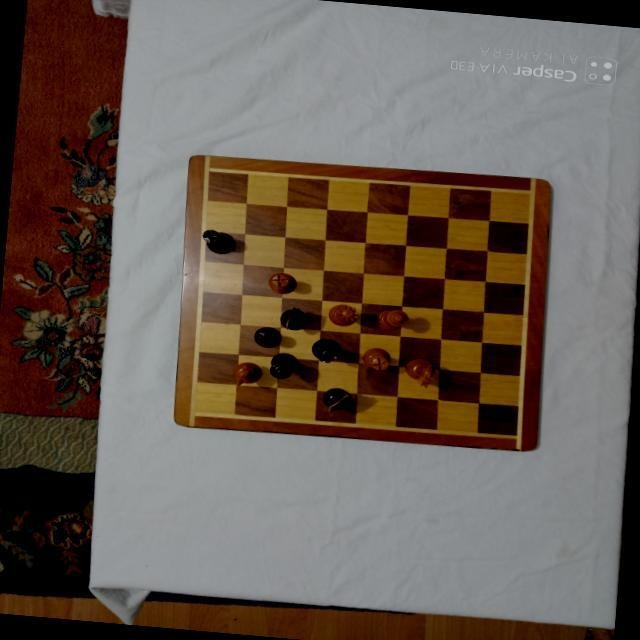black-king: (266, 350, 297, 378)
black-knight: (319, 385, 353, 413), (277, 305, 308, 331)
black-queen: (309, 335, 341, 364)
black-rook: (200, 227, 236, 254), (252, 324, 282, 348)
white-king: (374, 305, 410, 330)
white-knight: (402, 356, 433, 388), (230, 360, 261, 388)
white-queen: (325, 301, 359, 326)
white-rook: (360, 344, 392, 371), (266, 270, 297, 294)
